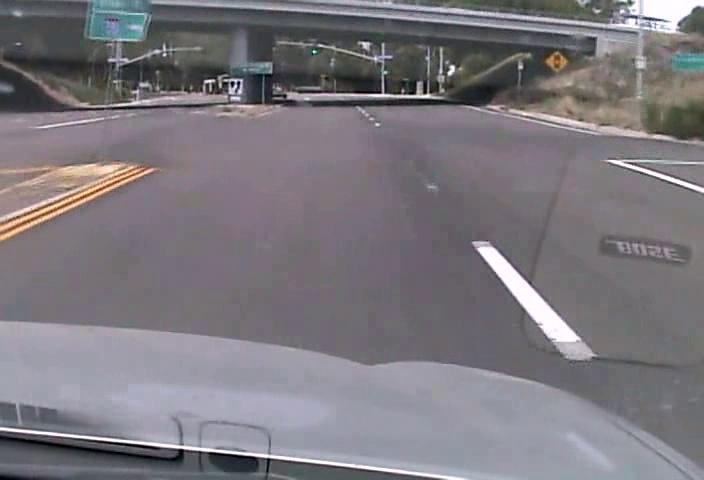signalAhead: (543, 49, 569, 73)
